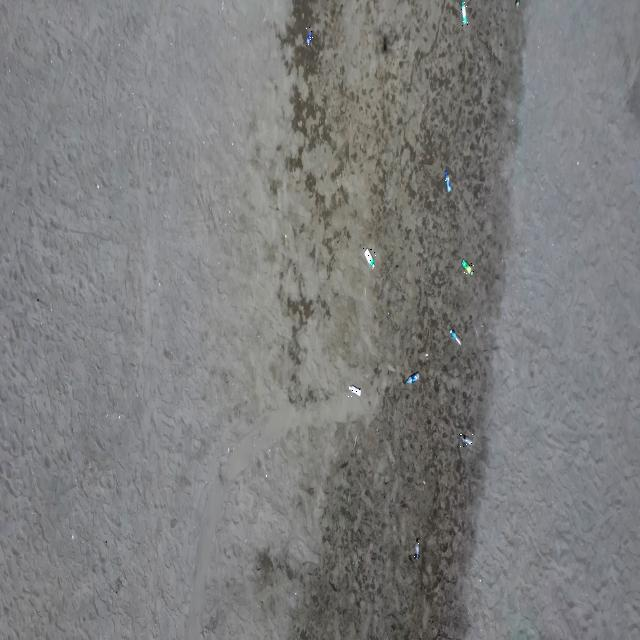Garbage: (409, 536, 420, 559), (457, 432, 472, 447), (448, 327, 460, 344), (363, 247, 373, 267), (443, 167, 451, 192), (460, 259, 472, 275), (460, 0, 467, 24), (404, 372, 419, 383), (304, 27, 312, 44), (348, 384, 360, 395), (515, 0, 519, 5)
